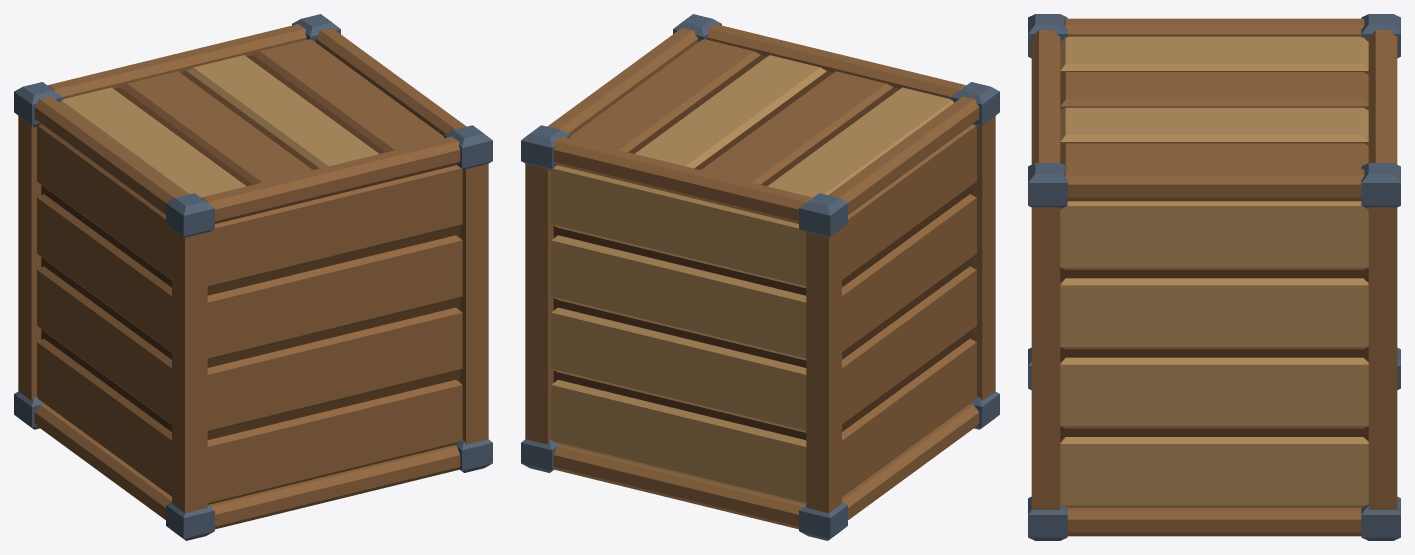
The model's file is Crate_01.glb.
3 renders of one model, left to right at view 1: azimuth 30°, elevation 25°; view 2: azimuth 150°, elevation 25°; view 3: azimuth 270°, elevation 25°, orthographic. The views are drawn at different scales.
Parts seen in each view (by area): view 1: Crate_01; view 2: Crate_01; view 3: Crate_01.
Part boxes in pixels (left/top/right/bottom): Crate_01: left=14, top=14, right=492, bottom=540; Crate_01: left=521, top=14, right=999, bottom=540; Crate_01: left=1028, top=14, right=1400, bottom=540.
Bounding box in the file's own units: 2.19 × 2.27 × 2.08.
